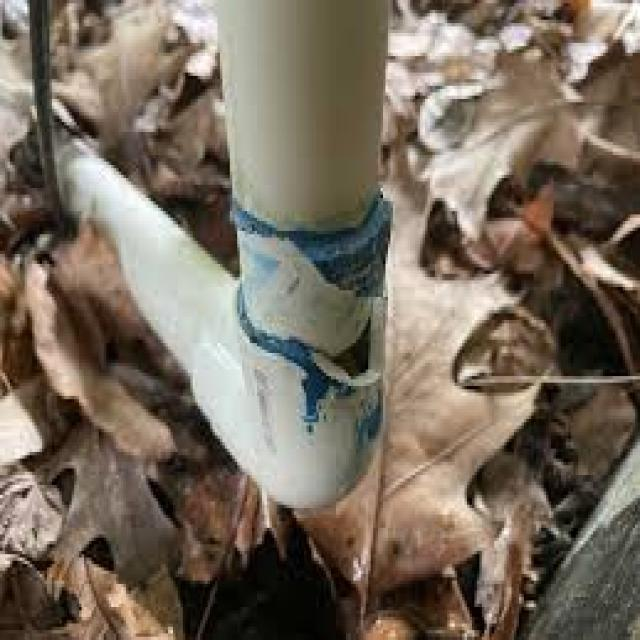crack: (292, 317, 376, 385)
